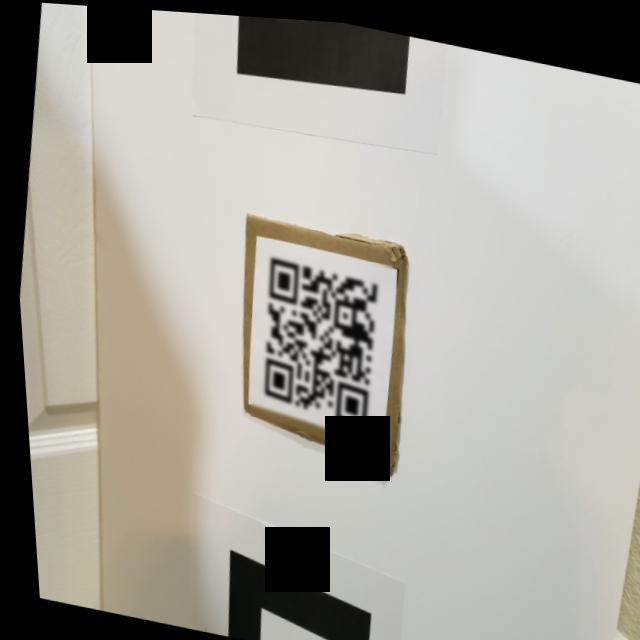QR_CODE: (235, 235, 398, 439)
